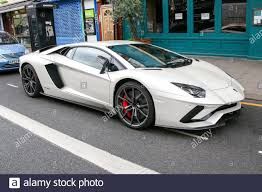Lamborghini: (20, 43, 246, 128)
